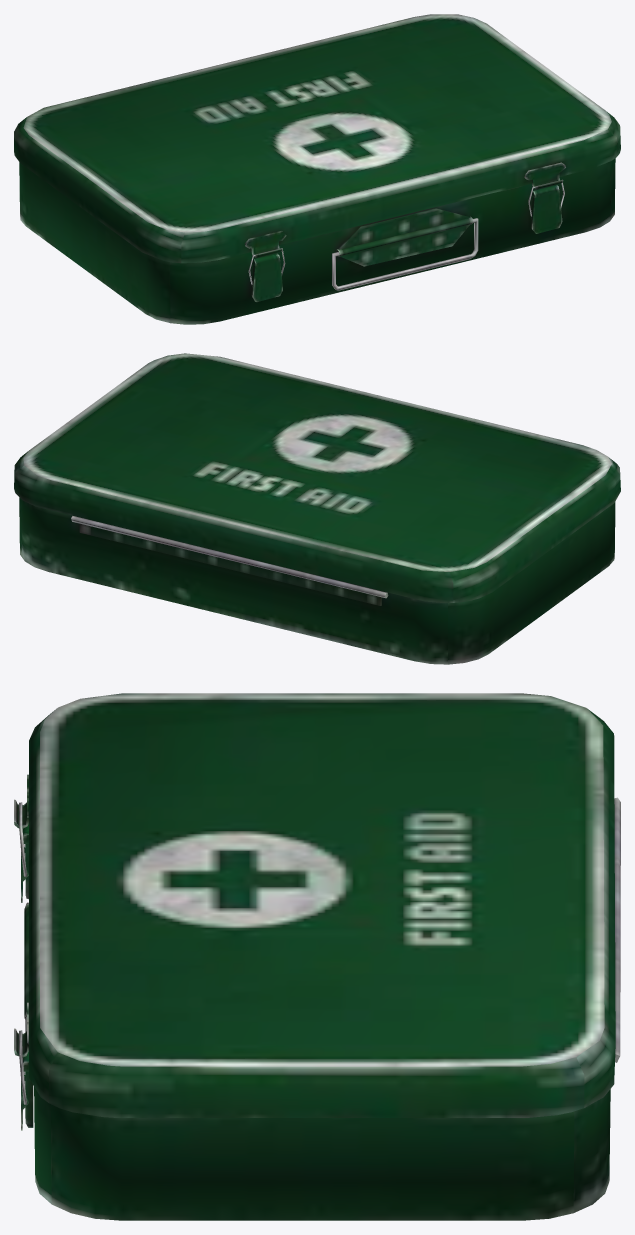
Rendered from medical_box.glb.
3 renders of one model, top to bottom at view 1: azimuth 30°, elevation 25°; view 2: azimuth 150°, elevation 25°; view 3: azimuth 270°, elevation 25°, orthographic. The views are drawn at different scales.
Visible parts, largest first — view 1: latch; view 2: latch; view 3: latch.
Boxes of the visible parts, left/top/right/bottom form: latch: left=14, top=14, right=620, bottom=324; latch: left=14, top=353, right=620, bottom=664; latch: left=14, top=693, right=620, bottom=1220.
Bounding box in the file's own units: 0.5255 × 0.0967 × 0.3501.
1 material, 1 textured.
